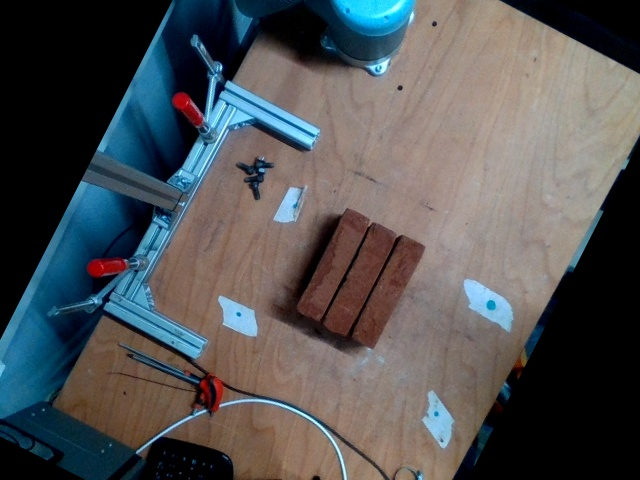brick-side: (317, 221, 397, 339), (294, 208, 374, 326), (346, 235, 425, 353)
